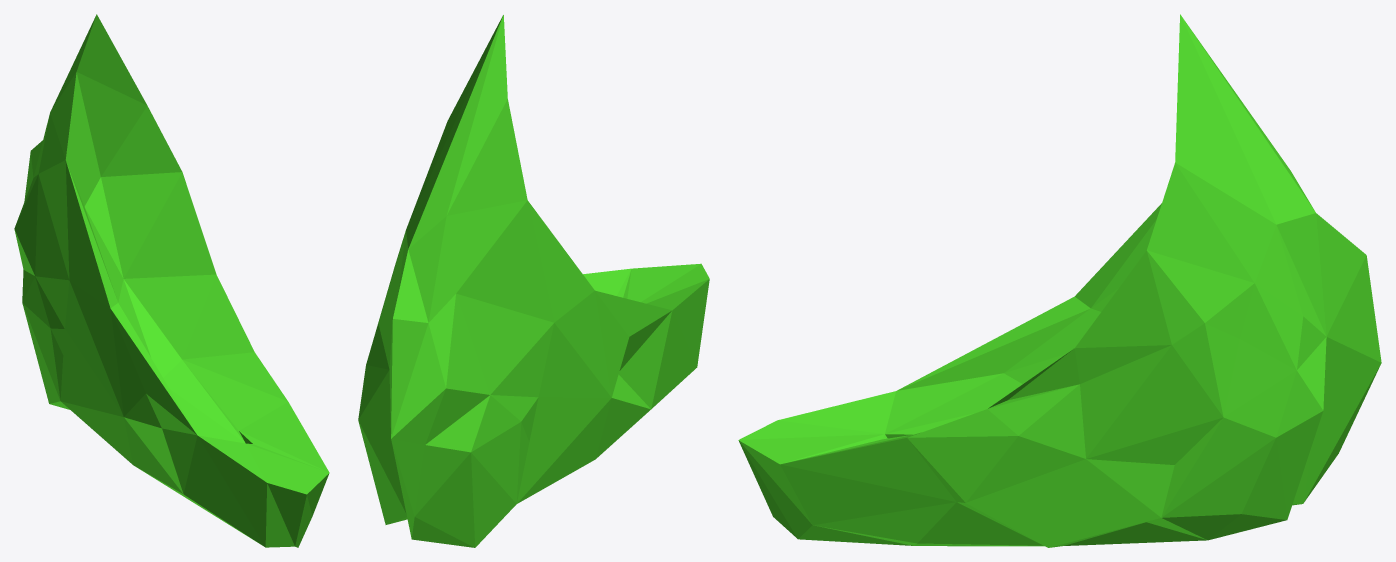
File: meteor_green_flow_shard_04.glb
3 views of the same model, side by side, from view 1: azimuth 30°, elevation 25°; view 2: azimuth 150°, elevation 25°; view 3: azimuth 270°, elevation 25° (orthographic). The views are drawn at different scales.
Visible parts, largest first — view 1: Mesh1.004; view 2: Mesh1.004; view 3: Mesh1.004.
Part boxes in pixels (x1=…): Mesh1.004: x1=14, y1=14, x2=329, y2=547; Mesh1.004: x1=358, y1=15, x2=709, y2=547; Mesh1.004: x1=738, y1=14, x2=1381, y2=547.
Bounding box in the file's own units: 0.6257 × 2.11 × 2.39.
